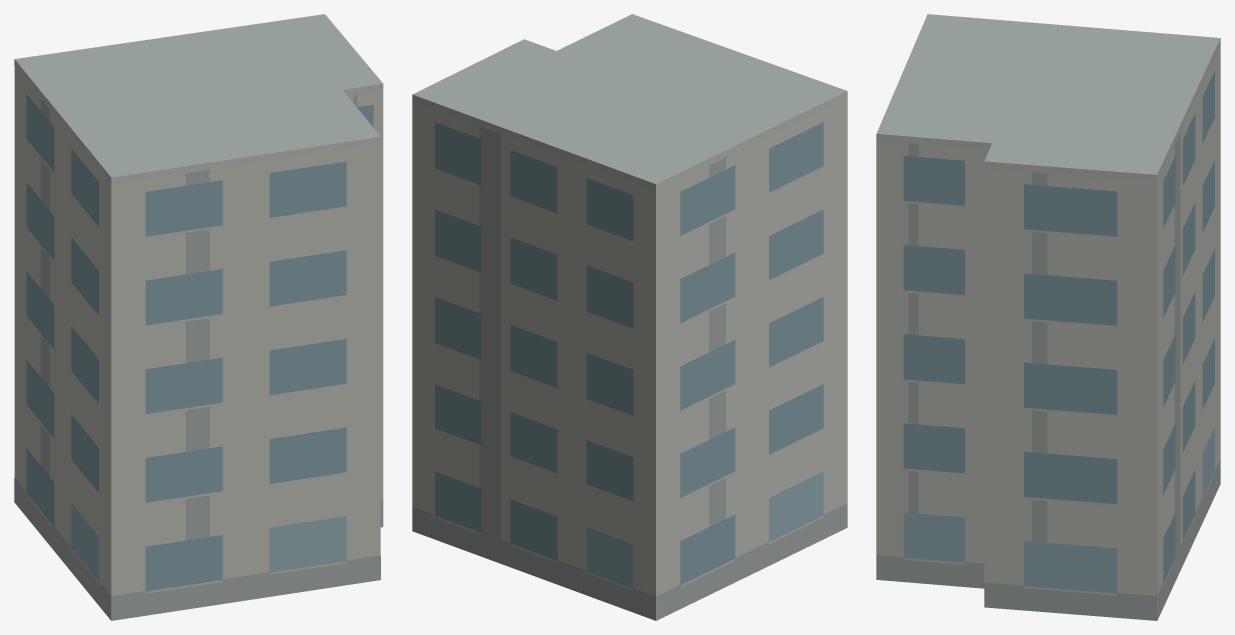
Rendered from survey-upis-32793109.glb.
3 renders of one model, left to right at view 1: azimuth 30°, elevation 25°; view 2: azimuth 150°, elevation 25°; view 3: azimuth 270°, elevation 25°, orthographic. The views are drawn at different scales.
Visible parts, largest first — view 1: survey-upis-32793109.tmp; view 2: survey-upis-32793109.tmp; view 3: survey-upis-32793109.tmp.
Boxes of the visible parts, left/top/right/bottom form: survey-upis-32793109.tmp: left=14, top=14, right=383, bottom=620; survey-upis-32793109.tmp: left=412, top=14, right=847, bottom=620; survey-upis-32793109.tmp: left=876, top=14, right=1220, bottom=620.
Size of the model in its own units: 11.81 by 15.25 by 10.67.
